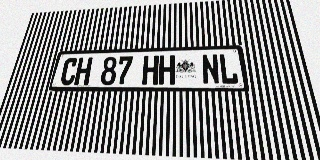7: (115, 56, 133, 85)
8: (100, 57, 118, 85)
C: (59, 58, 79, 85)
H: (74, 57, 93, 85), (142, 55, 159, 85), (158, 55, 175, 85)
L: (218, 53, 239, 84)
N: (201, 54, 220, 84)
